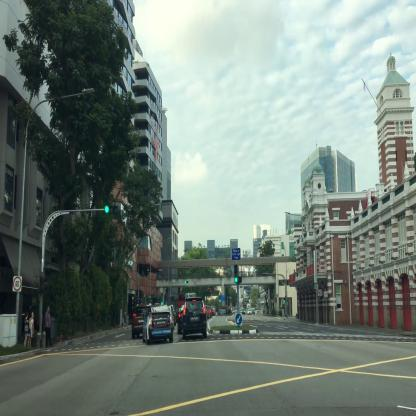green_traffic_light: (104, 207, 118, 212), (234, 265, 238, 282)
